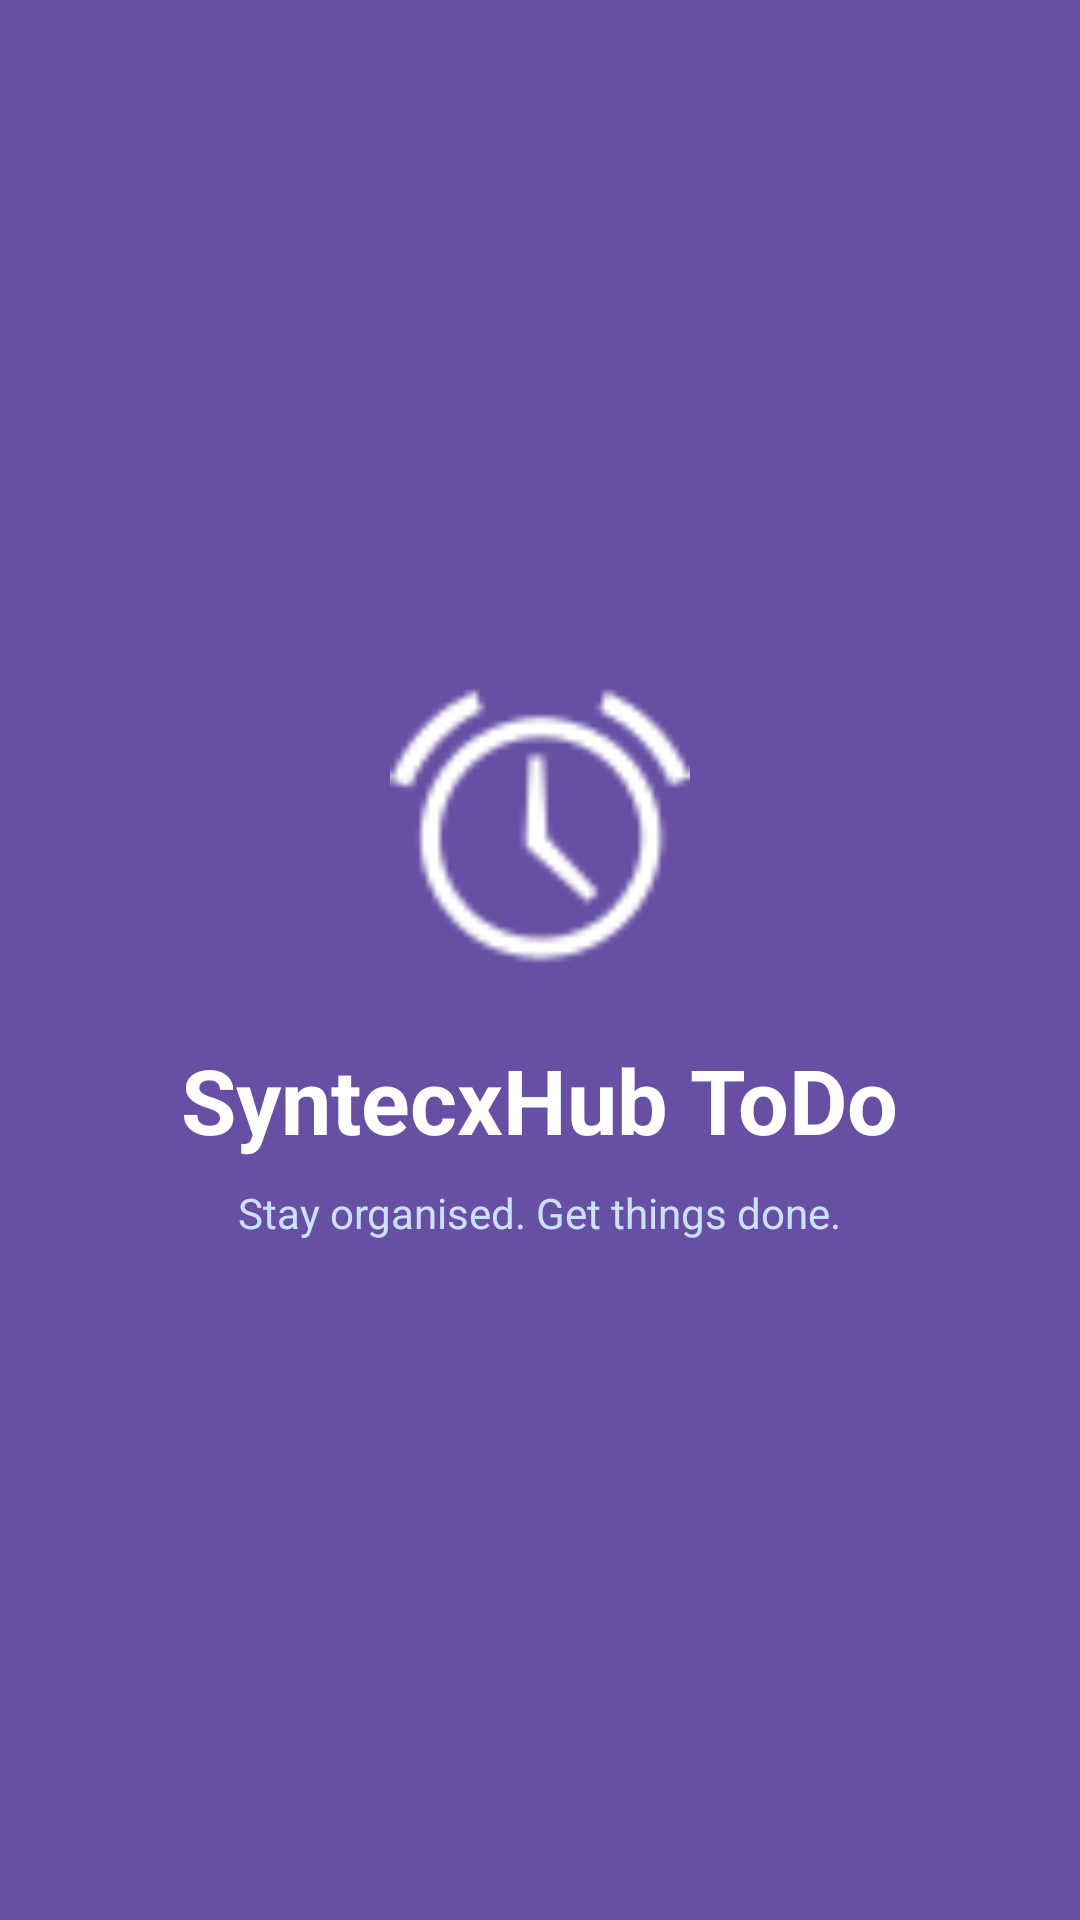

Locate icon controls on the screen. Image size 1080x1920, boxes as (left=x1, top=y1, right=x2, bottom=y2).
lock idle alarm: (left=390, top=690, right=690, bottom=962)
